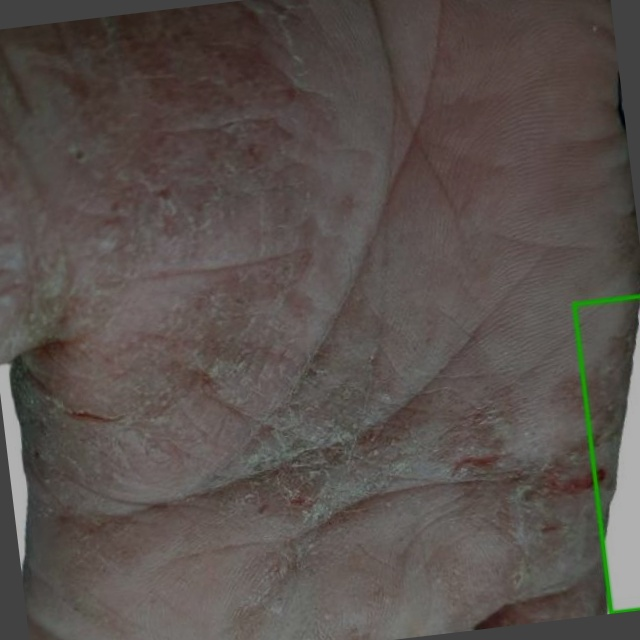Contact Dermatitis: (573, 295, 639, 613)
